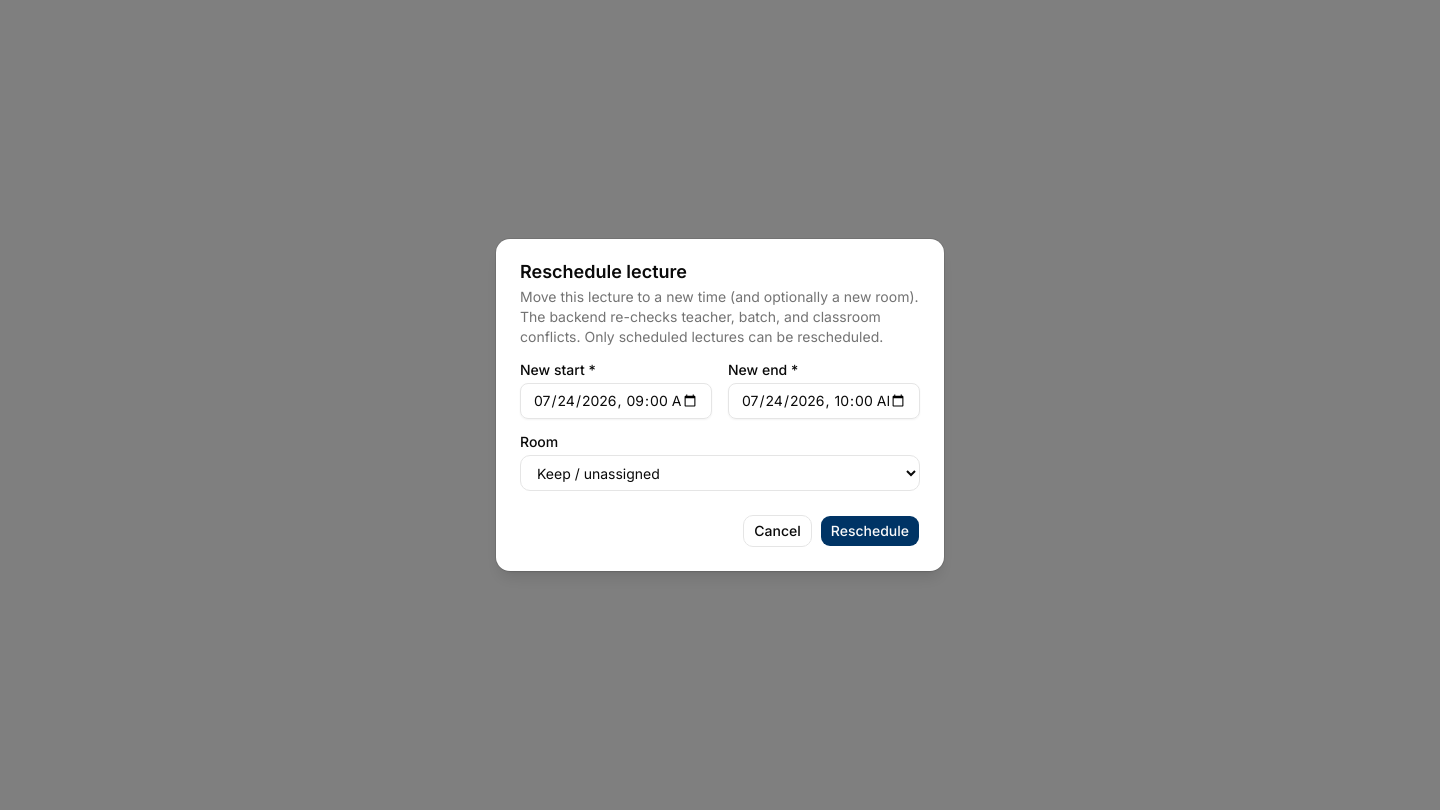
RescheduleDialog › blocks submit when end is not after start
// Set end before start.
Replace the text in the field labelled "New end *" with "2026-07-24T09:00" at (824, 401), box [728, 383, 920, 419]
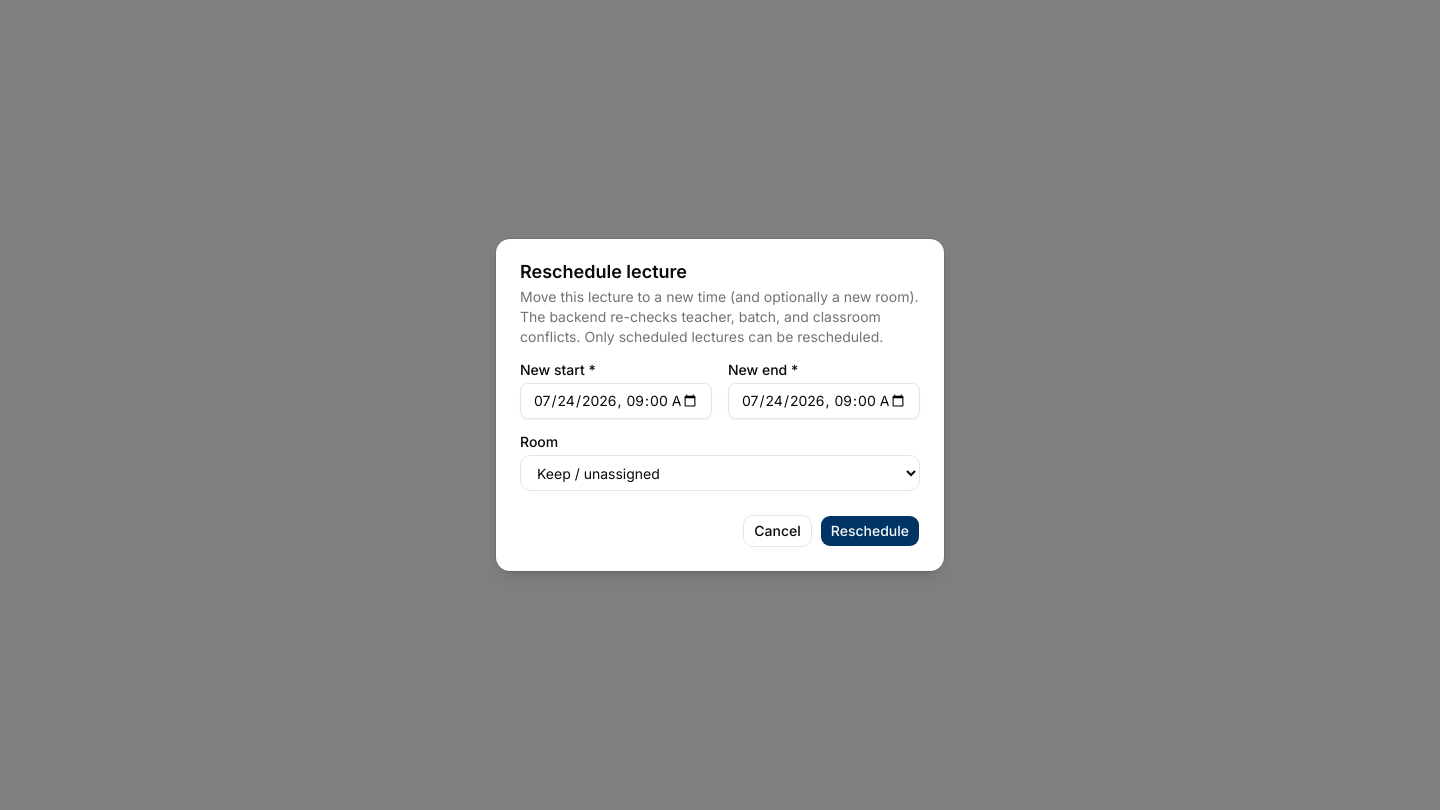
Click the button "Reschedule".
click(870, 531)  # box [820, 515, 920, 547]
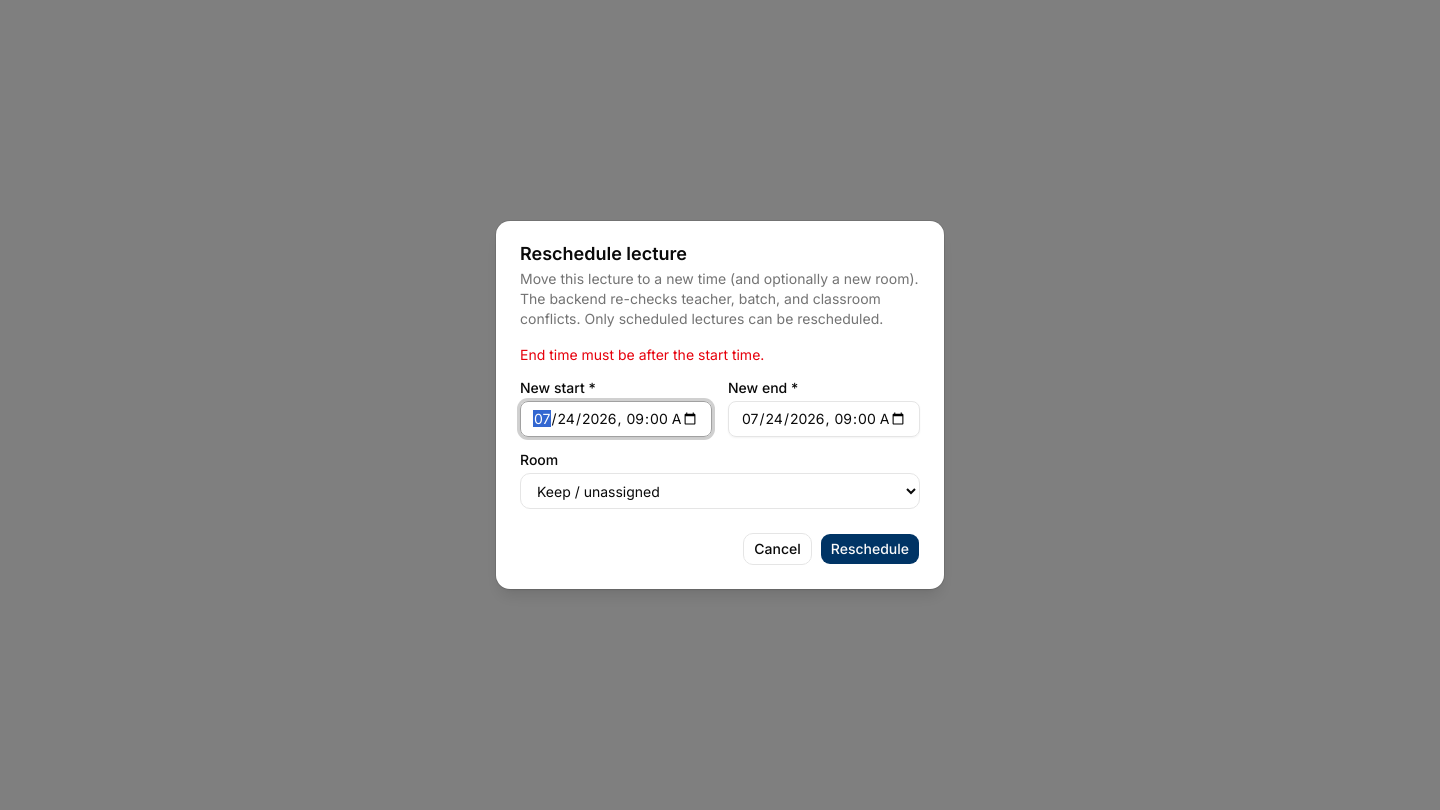
Now the text "End time must be after the start time." is shown, box [520, 346, 764, 363]
